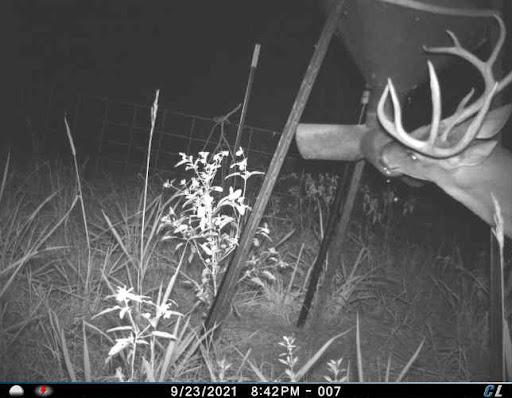Deer: (377, 11, 512, 247)
